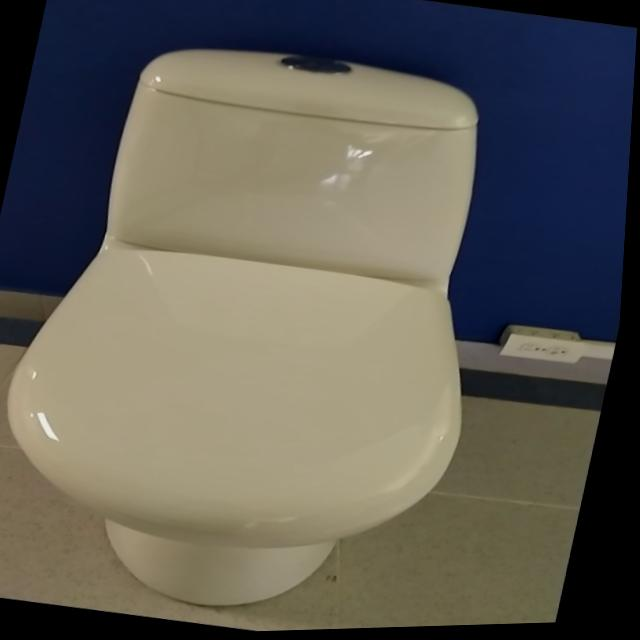toilet: (0, 15, 541, 640)
